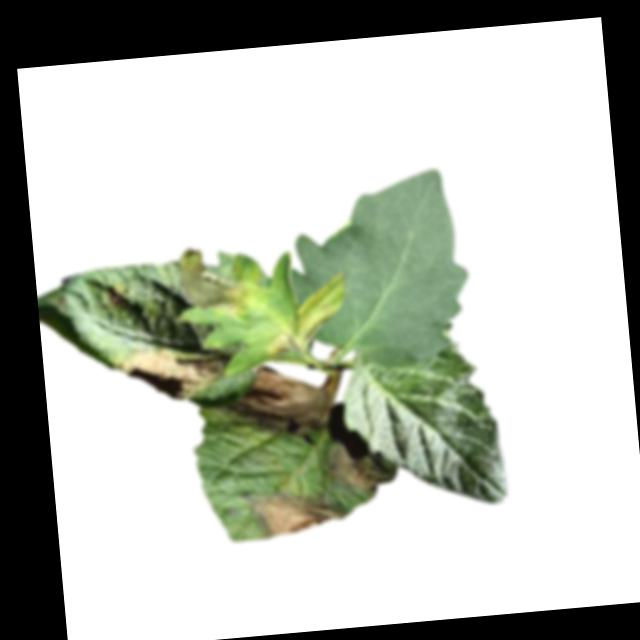Late_blight: (221, 360, 338, 441), (117, 341, 236, 410), (176, 242, 261, 322), (240, 483, 347, 540), (261, 291, 336, 359), (321, 440, 388, 495), (106, 284, 130, 307)
